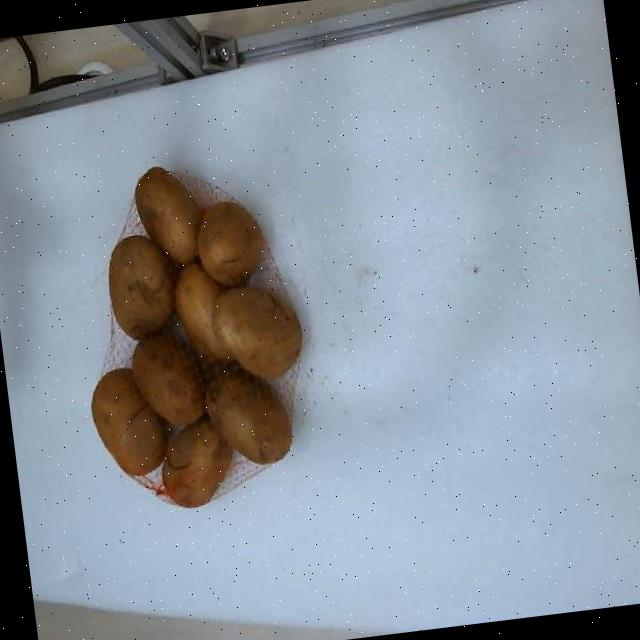potato: (204, 370, 291, 462), (213, 287, 301, 377), (90, 367, 164, 472), (107, 235, 174, 339), (131, 333, 203, 424), (135, 167, 201, 263), (160, 418, 229, 506), (174, 263, 230, 360), (196, 203, 263, 284)
